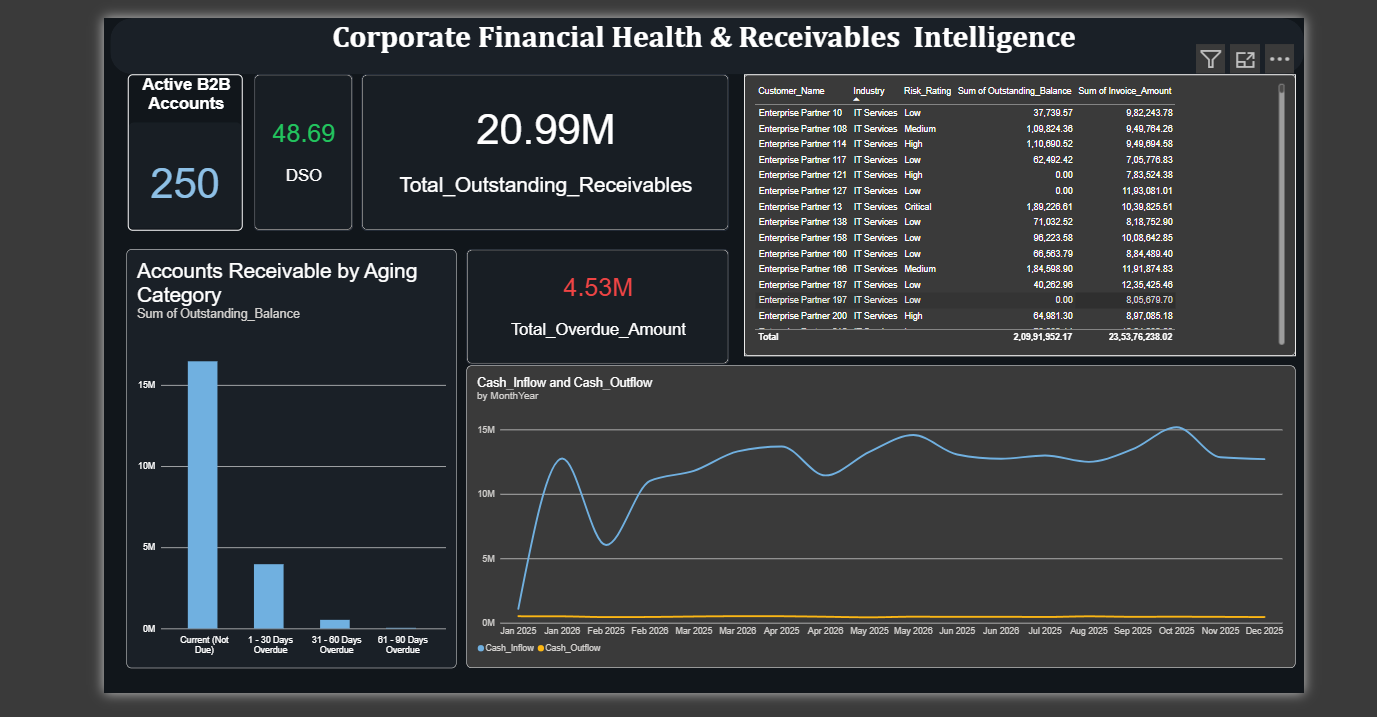

The page's visual inventory and layout, read from the dashboard file:
{"tool":"powerbi","page":{"name":"Page 1","canvas":[1920,1080],"ordinal":0},"visuals":[{"type":"shape","box":[10,0,1910,90],"z":0},{"type":"textbox","box":[0,0,1920,68],"z":1},{"type":"cardVisual","fields":{"Data":["Fact_Invoices.Total_Outstanding_Receivables"]},"box":[412,90,588,250],"z":2},{"type":"cardVisual","fields":{"Data":["Fact_Invoices.Total_Overdue_Amount"]},"box":[580,370,420,170],"z":8},{"type":"clusteredColumnChart","title":"Accounts Receivable by Aging Category","fields":{"Category":["Fact_Invoices.Aging_Bucket"],"Y":["Sum(Fact_Invoices.Outstanding_Balance)"]},"box":[36,370,528,670],"z":9},{"type":"cardVisual","fields":{"Data":["Fact_Invoices.DSO"]},"box":[240,90,158,250],"z":10},{"type":"cardVisual","title":"Active B2B Accounts","fields":{"Data":["Count(Dim_Customers.Customer_ID)"]},"box":[38,90,184,250],"z":11},{"type":"lineChart","fields":{"Category":["Dim_Calendar.MonthYear"],"Y":["Fact_CashFlow_Ledger.Cash_Inflow","Fact_CashFlow_Ledger.Cash_Outflow"]},"box":[580,556,1326,484],"z":12},{"type":"tableEx","fields":{"Values":["Dim_Customers.Customer_Name","Dim_Customers.Industry","Dim_Customers.Risk_Rating","Sum(Fact_Invoices.Outstanding_Balance)","Sum(Fact_Invoices.Invoice_Amount)"]},"box":[1024,90,882,450],"z":13}]}

Visuals, with their boxes in screenshot pixels (x1, y1, x2, y2):
shape: 103/0/1310/28
textbox: 97/0/1310/14
cardVisual - Fact_Invoices.Total_Outstanding_Receivables: 357/28/728/186
cardVisual - Fact_Invoices.Total_Overdue_Amount: 463/205/728/312
"Accounts Receivable by Aging Category" clusteredColumnChart: 120/205/453/628
cardVisual - Fact_Invoices.DSO: 248/28/348/186
"Active B2B Accounts" cardVisual: 121/28/237/186
lineChart - Dim_Calendar.MonthYear x Fact_CashFlow_Ledger.Cash_Inflow: 463/323/1301/628
tableEx - Dim_Customers.Customer_Name x Dim_Customers.Industry: 744/28/1301/312
